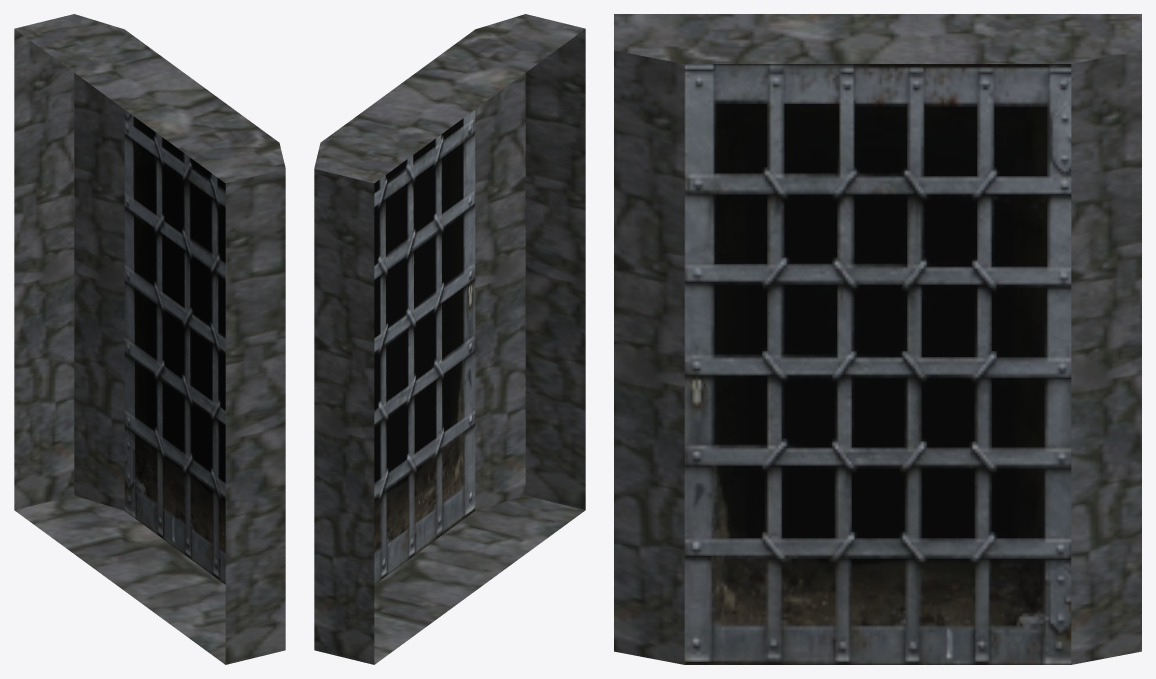
Rendered from Window_bars.gltf.
3 renders of one model, left to right at view 1: azimuth 30°, elevation 25°; view 2: azimuth 150°, elevation 25°; view 3: azimuth 270°, elevation 25°, orthographic. The views are drawn at different scales.
Parts seen in each view (by area): view 1: Window_bars; view 2: Window_bars; view 3: Window_bars.
Part boxes in pixels (x1,y1,x2,y2): Window_bars: (14,14,285,664); Window_bars: (314,14,585,664); Window_bars: (614,14,1141,664).
Bounding box in the file's own units: 0.2562 × 1.43 × 1.14.
